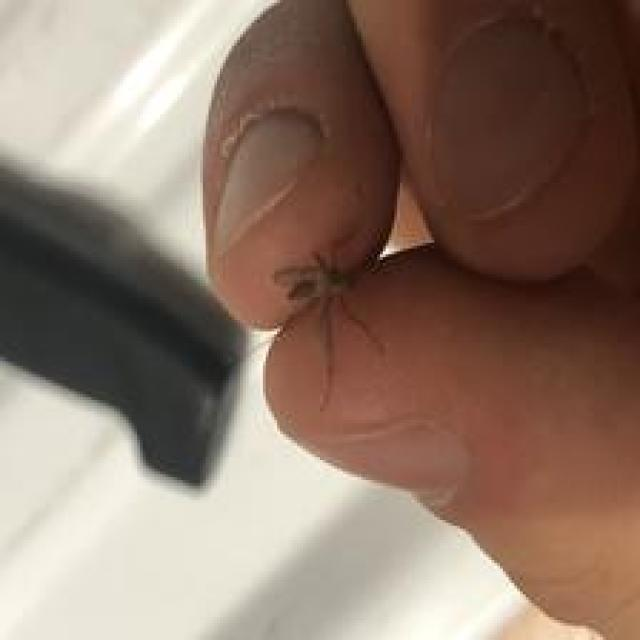Culex: (270, 248, 387, 412)
